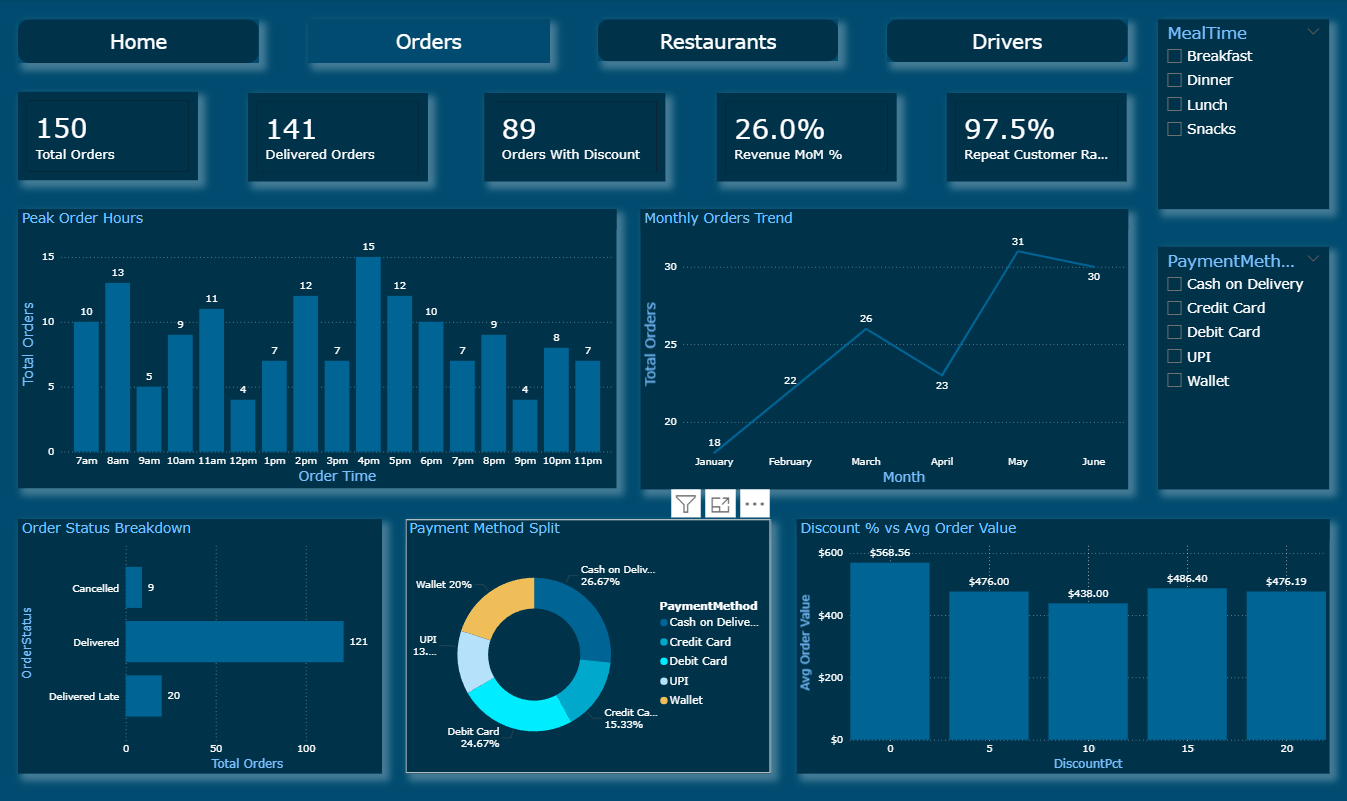

The page's visual inventory and layout, read from the dashboard file:
{"tool":"powerbi","page":{"name":"Orders","canvas":[1850,1100],"ordinal":1},"visuals":[{"type":"actionButton","box":[26.8,29.1,328.6,60],"z":0},{"type":"actionButton","box":[422.3,29.8,329.4,59.6],"z":1000},{"type":"actionButton","box":[818.3,29.8,327.7,57.8],"z":2000},{"type":"actionButton","box":[1213.3,29.7,328.5,58.5],"z":3000},{"type":"cardVisual","fields":{"Data":["Orders.Total Orders"]},"box":[26.8,128.8,245.7,121.1],"z":4000},{"type":"cardVisual","fields":{"Data":["Orders.Delivered Orders"]},"box":[341.7,129.7,245.3,120.9],"z":5000},{"type":"cardVisual","fields":{"Data":["Orders.Orders With Discount"]},"box":[664.1,129.7,247.1,120.9],"z":6000},{"type":"cardVisual","fields":{"Data":["Orders.Revenue MoM %"]},"box":[981.2,129.7,245.3,120.9],"z":7000},{"type":"clusteredColumnChart","title":"Peak Order Hours","fields":{"Category":["Orders.OrderHourLabel"],"Y":["Orders.Total Orders"]},"box":[27.3,288.3,817.2,380.4],"z":8000},{"type":"barChart","title":"Order Status Breakdown","fields":{"Category":["Orders.OrderStatus"],"Y":["Orders.Total Orders"]},"box":[27.5,710.7,497,347.4],"z":9000},{"type":"lineChart","title":"Monthly Orders Trend","fields":{"Category":["DateTable.Year Hierarchy.Month"],"Y":["Orders.Total Orders"]},"box":[876.9,288.3,665.3,382.1],"z":10000},{"type":"donutChart","title":"Payment Method Split","fields":{"Category":["Orders.PaymentMethod"],"Y":["Orders.Total Orders"]},"box":[555.4,710.7,498.7,347.4],"z":11000},{"type":"clusteredColumnChart","title":"Discount % vs Avg Order Value","fields":{"Category":["Orders.DiscountPct"],"Y":["Orders.Avg Order Value"]},"box":[1090.2,710.7,727.4,347.4],"z":12000},{"type":"slicer","fields":{"Values":["Orders.MealTime"]},"box":[1583.1,29,233.7,259.3],"z":13000},{"type":"slicer","fields":{"Values":["Orders.PaymentMethod"]},"box":[1583.1,339.5,233.7,331],"z":14000},{"type":"cardVisual","fields":{"Data":["Orders.Repeat Customer Rate"]},"box":[1294.9,129.7,245.3,120.9],"z":15000}]}

Visuals, with their boxes in screenshot pixels (x1, y1, x2, y2), scaled from the page's 1850x1100 canvas onto the 1347x801 screenshot:
actionButton: Rect(20, 21, 259, 65)
actionButton: Rect(307, 22, 547, 65)
actionButton: Rect(596, 22, 834, 64)
actionButton: Rect(883, 22, 1123, 64)
cardVisual - Orders.Total Orders: Rect(20, 94, 198, 182)
cardVisual - Orders.Delivered Orders: Rect(249, 94, 427, 182)
cardVisual - Orders.Orders With Discount: Rect(484, 94, 663, 182)
cardVisual - Orders.Revenue MoM %: Rect(714, 94, 893, 182)
"Peak Order Hours" clusteredColumnChart: Rect(20, 210, 615, 487)
"Order Status Breakdown" barChart: Rect(20, 518, 382, 770)
"Monthly Orders Trend" lineChart: Rect(638, 210, 1123, 488)
"Payment Method Split" donutChart: Rect(404, 518, 767, 770)
"Discount % vs Avg Order Value" clusteredColumnChart: Rect(794, 518, 1323, 770)
slicer - Orders.MealTime: Rect(1153, 21, 1323, 210)
slicer - Orders.PaymentMethod: Rect(1153, 247, 1323, 488)
cardVisual - Orders.Repeat Customer Rate: Rect(943, 94, 1121, 182)
